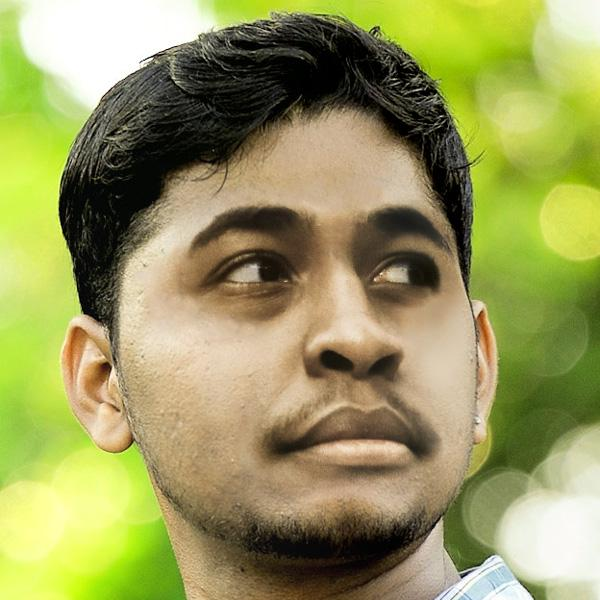Eyes: (199, 238, 306, 310), (359, 237, 449, 306)
